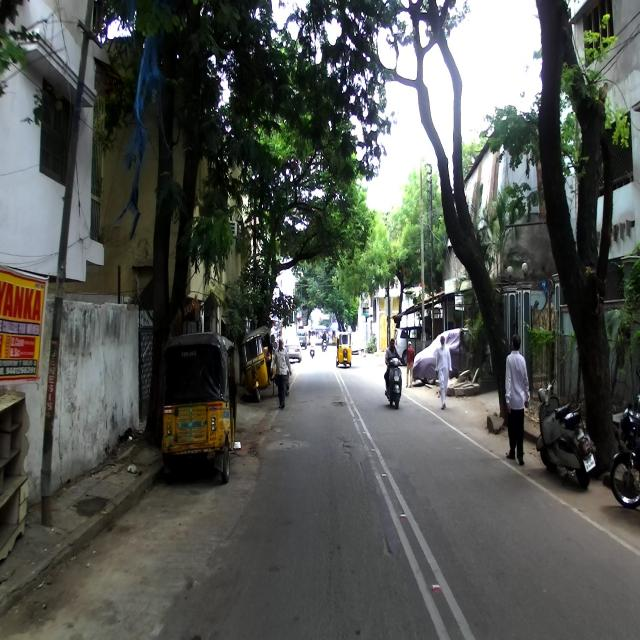Car: (412, 326, 470, 386)
autorickshaw: (160, 329, 238, 486)
motorcycle_Hero: (600, 396, 639, 512)
scooter: (536, 379, 596, 490)
